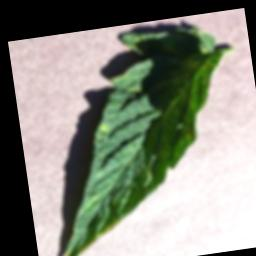Leaf_Mold: (76, 219, 123, 253), (97, 120, 110, 135)
